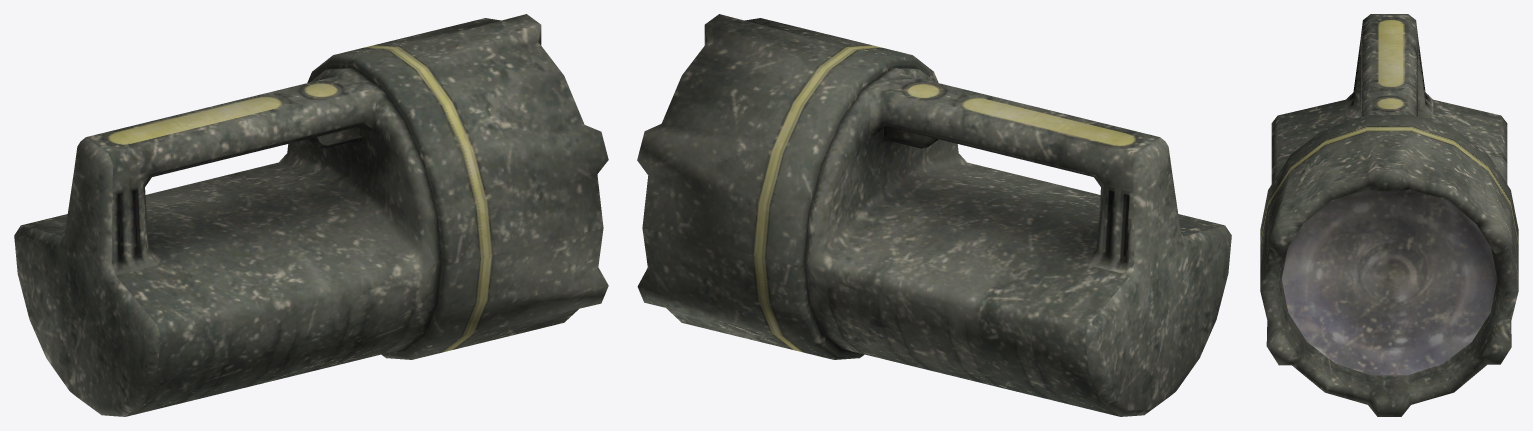
The model's file is Flashlight.fbx.
The picture shows the model from 3 angles, left to right: view 1: azimuth 30°, elevation 25°; view 2: azimuth 150°, elevation 25°; view 3: azimuth 270°, elevation 25°; orthographic projection. The views are drawn at different scales.
Visible parts, largest first — view 1: Flashlight; view 2: Flashlight; view 3: Flashlight, Linza.
Boxes of the visible parts, <box> form: Flashlight: <box>14,14,608,416</box>; Flashlight: <box>637,14,1231,416</box>; Flashlight: <box>1260,14,1518,416</box>; Linza: <box>1281,189,1497,375</box>.
Bounding box in the file's own units: 24.26 × 15.25 × 14.63.
